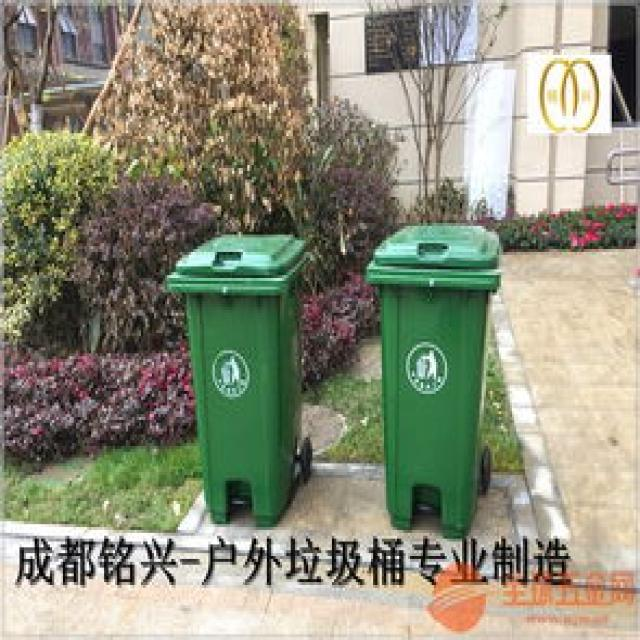garbage_bin: (362, 220, 497, 536), (163, 232, 306, 521)
